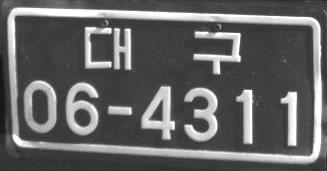0: (22, 79, 57, 134)
1: (228, 88, 264, 144), (274, 90, 305, 147)
3: (183, 86, 219, 140)
4: (140, 84, 175, 140)
6: (64, 80, 99, 134)
대구_D: (83, 26, 243, 75)
